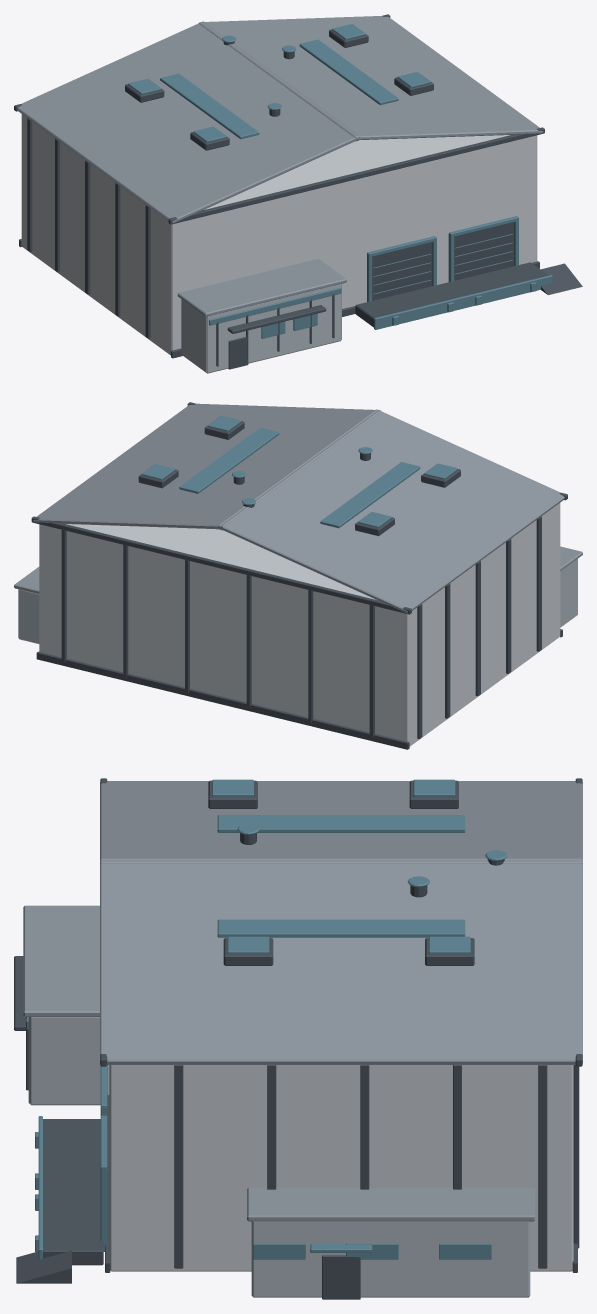
Rendered from warehouse.glb.
3 renders of one model, top to bottom at view 1: azimuth 30°, elevation 25°; view 2: azimuth 150°, elevation 25°; view 3: azimuth 270°, elevation 25°, orthographic. The views are drawn at different scales.
Visible parts, largest first — view 1: GeoSystem_Logistics_Warehouse; view 2: GeoSystem_Logistics_Warehouse; view 3: GeoSystem_Logistics_Warehouse.
Boxes of the visible parts, left/top/right/bottom form: GeoSystem_Logistics_Warehouse: left=14, top=14, right=582, bottom=373; GeoSystem_Logistics_Warehouse: left=14, top=402, right=582, bottom=749; GeoSystem_Logistics_Warehouse: left=14, top=778, right=582, bottom=1299.
Size of the model in its own units: 47.3 by 20.01 by 36.75.
